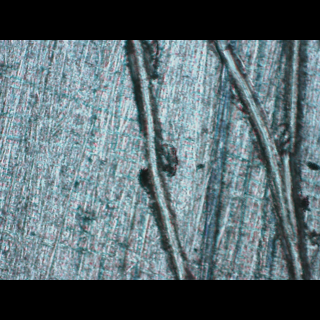d: (210, 40, 309, 280), (119, 40, 194, 280)
